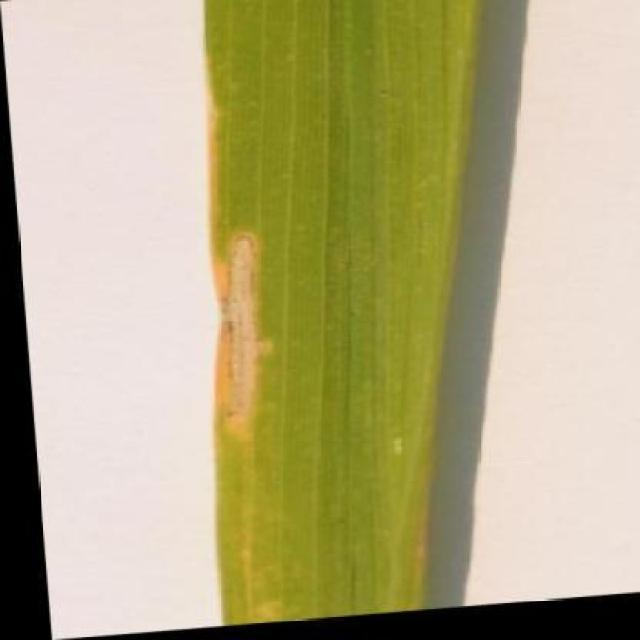Brown_Spot: (133, 0, 549, 631)
